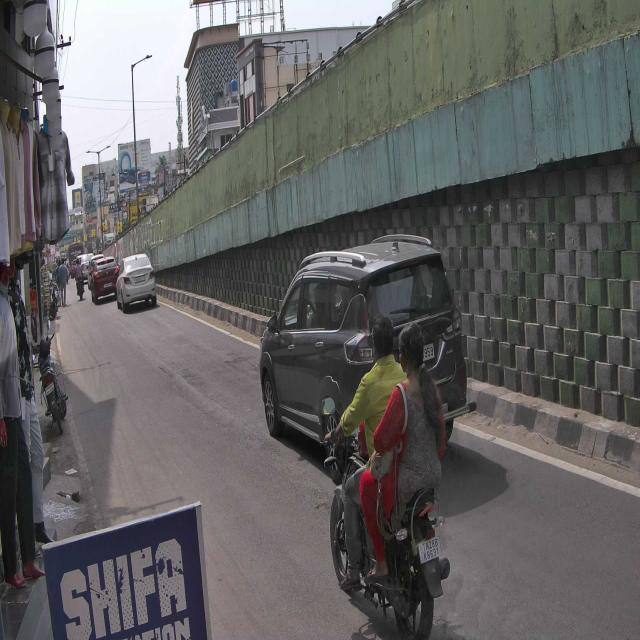double_rider: (319, 308, 451, 640)
